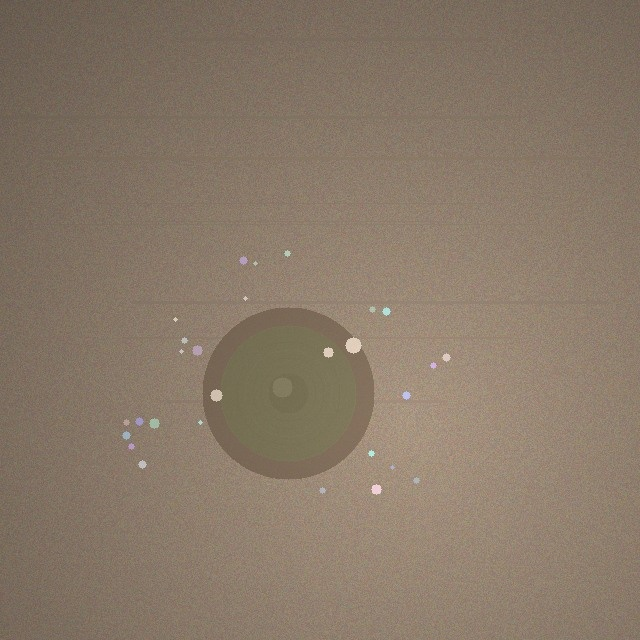overburn: (202, 307, 374, 479)
